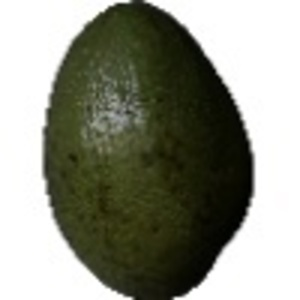abacate: (38, 1, 253, 297)
